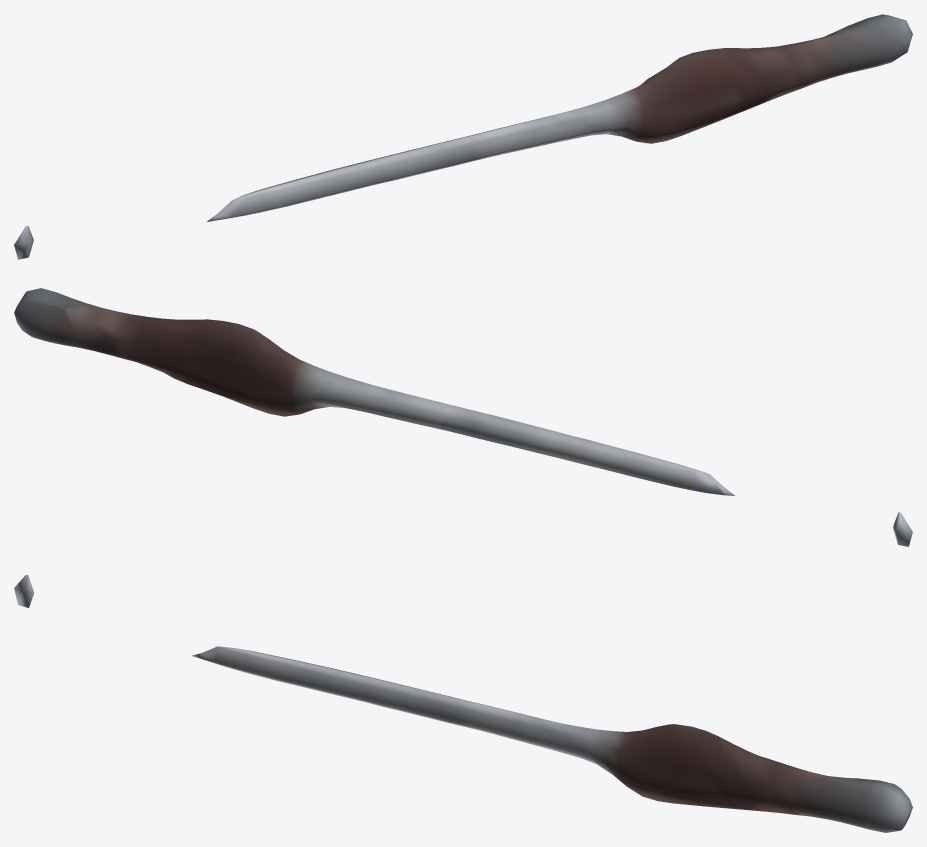
Rendered from a knife.obj.
3 views of the same model, one above another, from view 1: azimuth 30°, elevation 25°; view 2: azimuth 150°, elevation 25°; view 3: azimuth 330°, elevation 25° (orthographic).
Bounding box in the file's own units: 0.9611 × 0.0839 × 0.0394.
